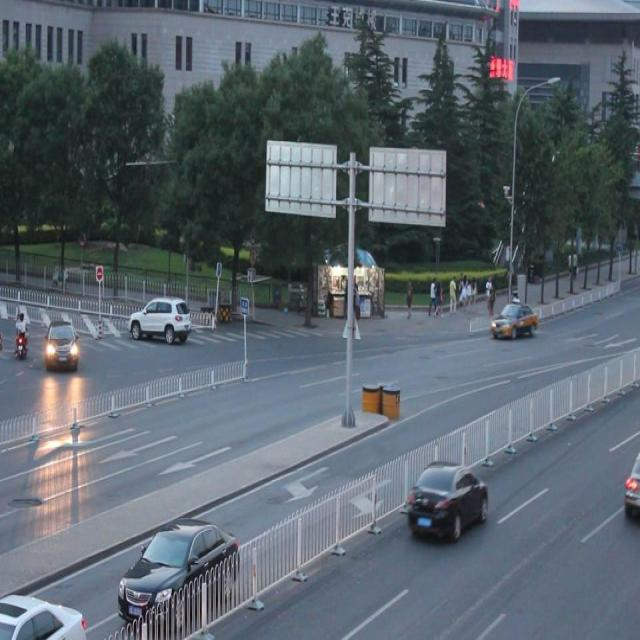car: (116, 516, 239, 617), (407, 456, 487, 542), (1, 589, 88, 640), (128, 294, 190, 344), (46, 318, 79, 369), (491, 301, 536, 337)
